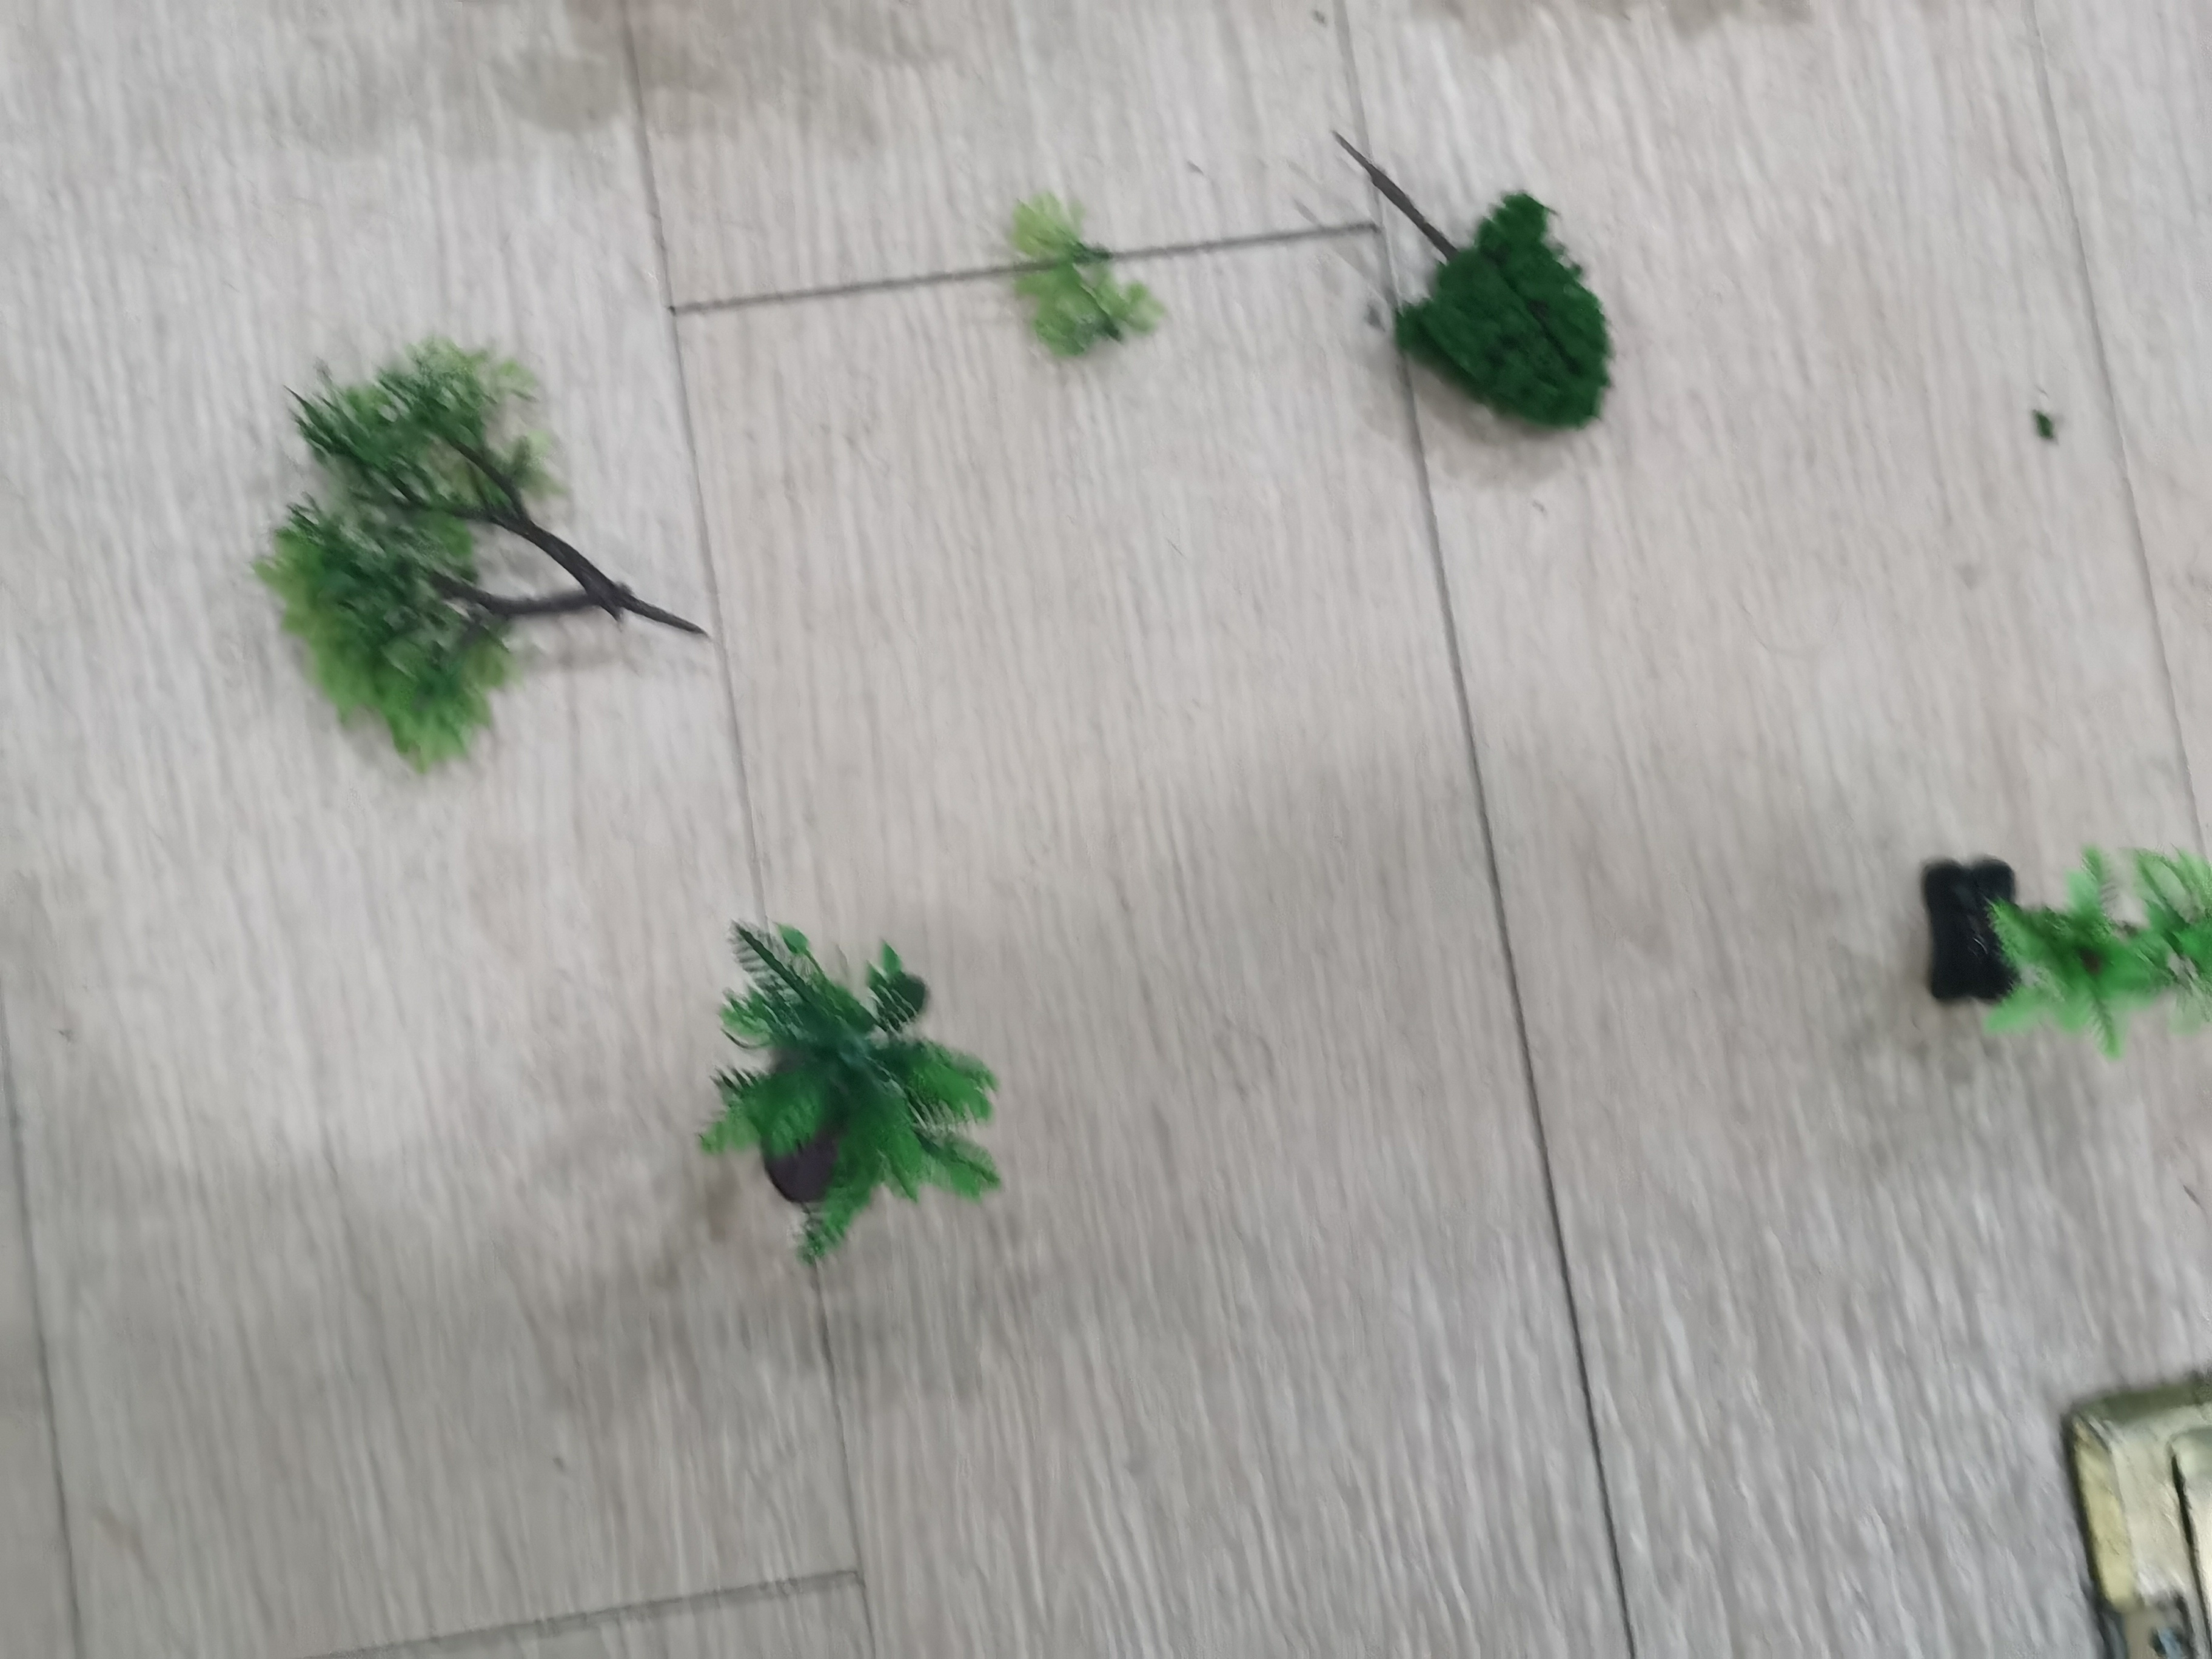corn: (700, 910, 1024, 1281), (1900, 824, 2210, 1054)
